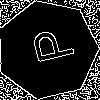P: (22, 24, 76, 68)
